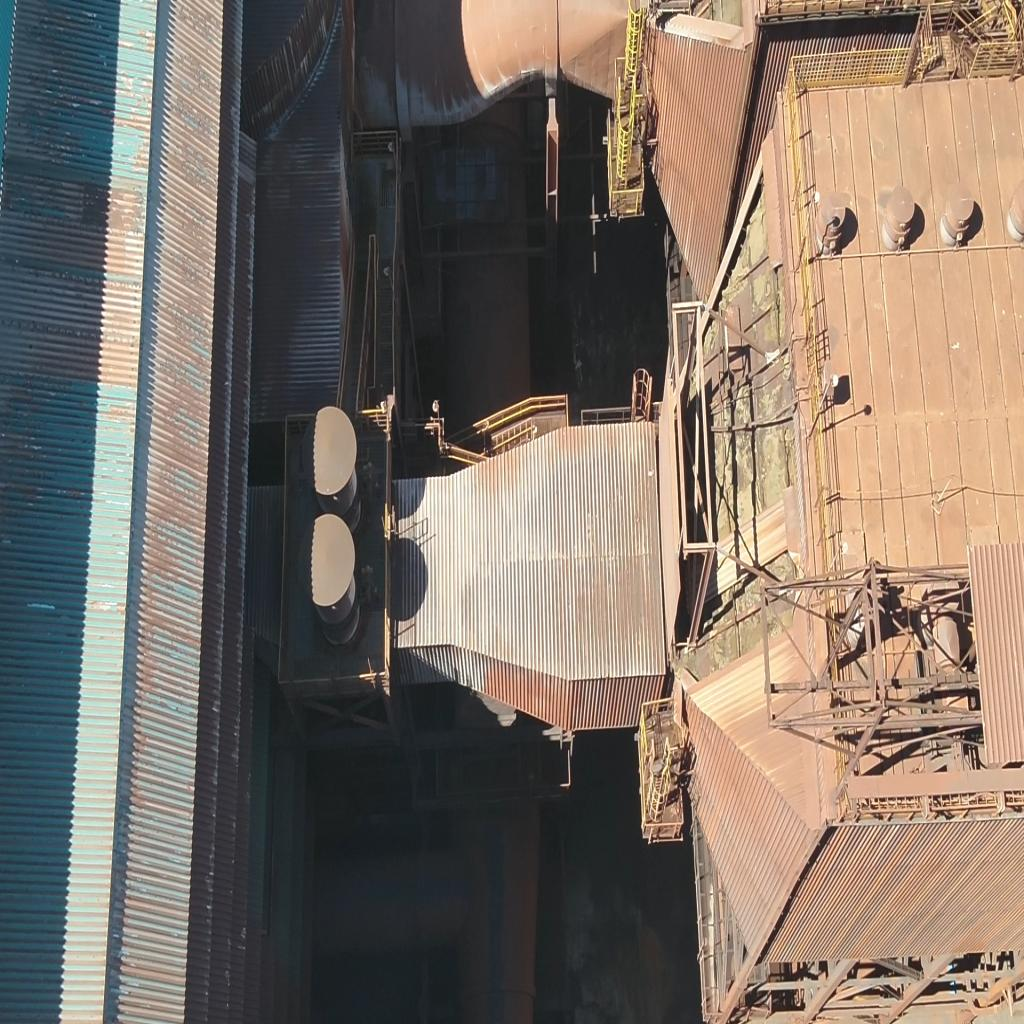Failures: (684, 194, 806, 634)
